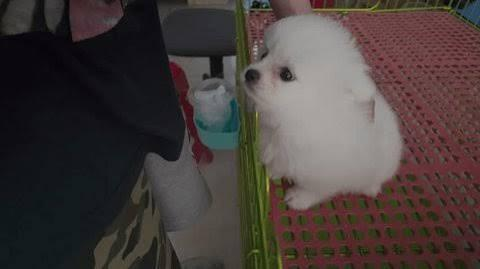puppy-dog: (243, 10, 405, 212)
